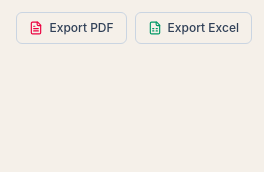
Test case: ReportExportButtons › displays error message when export fails on worker
The image size is (264, 172).
Click the button with test id "export-pdf-button": coordinates (72, 28) 16,12 -> 127,44
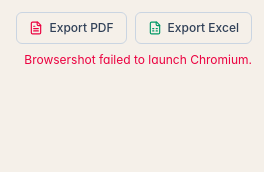
Check: the message reads "Browsershot failed to launch Chromium.", box 24,52 -> 252,67
